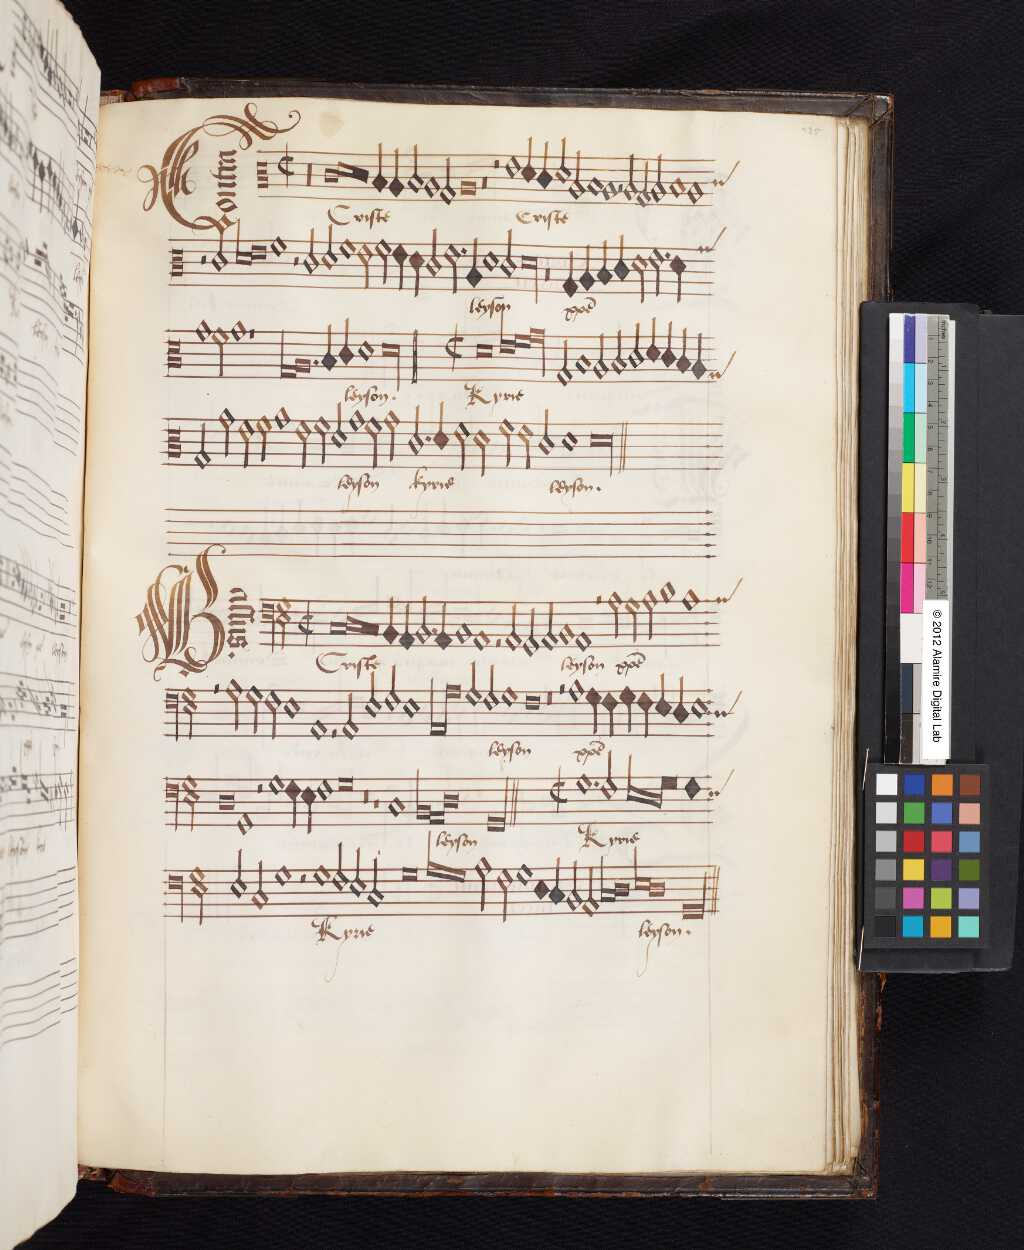barline: (617, 412, 634, 480)
c clef_7: (161, 411, 188, 475)
longa_6: (584, 422, 619, 486)
minim_10: (192, 410, 213, 475)
minim_3: (216, 398, 236, 462), (383, 403, 400, 467)
minim_4: (365, 408, 385, 472), (313, 407, 331, 468), (497, 412, 516, 472), (255, 406, 272, 468)
minim_5: (452, 412, 471, 475), (295, 412, 314, 475), (516, 416, 536, 474), (238, 409, 255, 473)
minim_6: (473, 419, 492, 481), (329, 396, 347, 453)
minim_7: (406, 397, 426, 462), (535, 399, 555, 462)
point: (421, 425, 434, 449)
semibreve_3: (271, 398, 293, 438), (347, 402, 367, 439)
semibreve_6: (557, 420, 581, 460)
semiminim_6: (432, 395, 450, 457)
